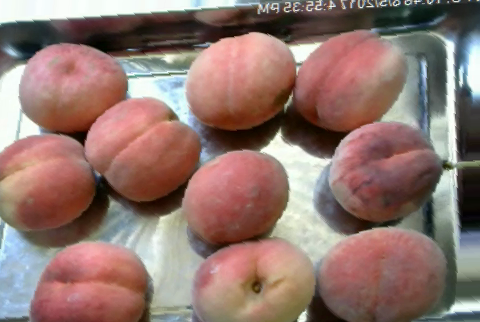Peach: (318, 222, 449, 321), (87, 98, 200, 200), (327, 121, 441, 221), (293, 31, 406, 131), (183, 32, 294, 129), (192, 237, 316, 321), (181, 149, 289, 244), (18, 43, 131, 133), (0, 132, 97, 232), (33, 240, 148, 322)
